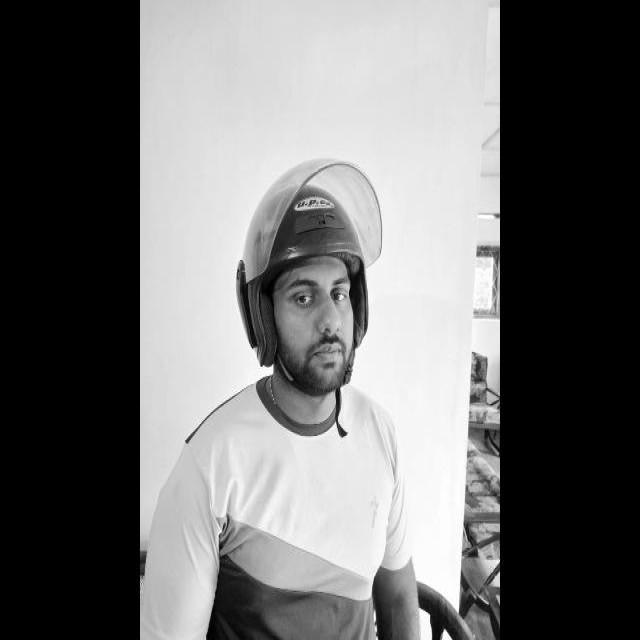5_casco: (235, 158, 383, 367)
